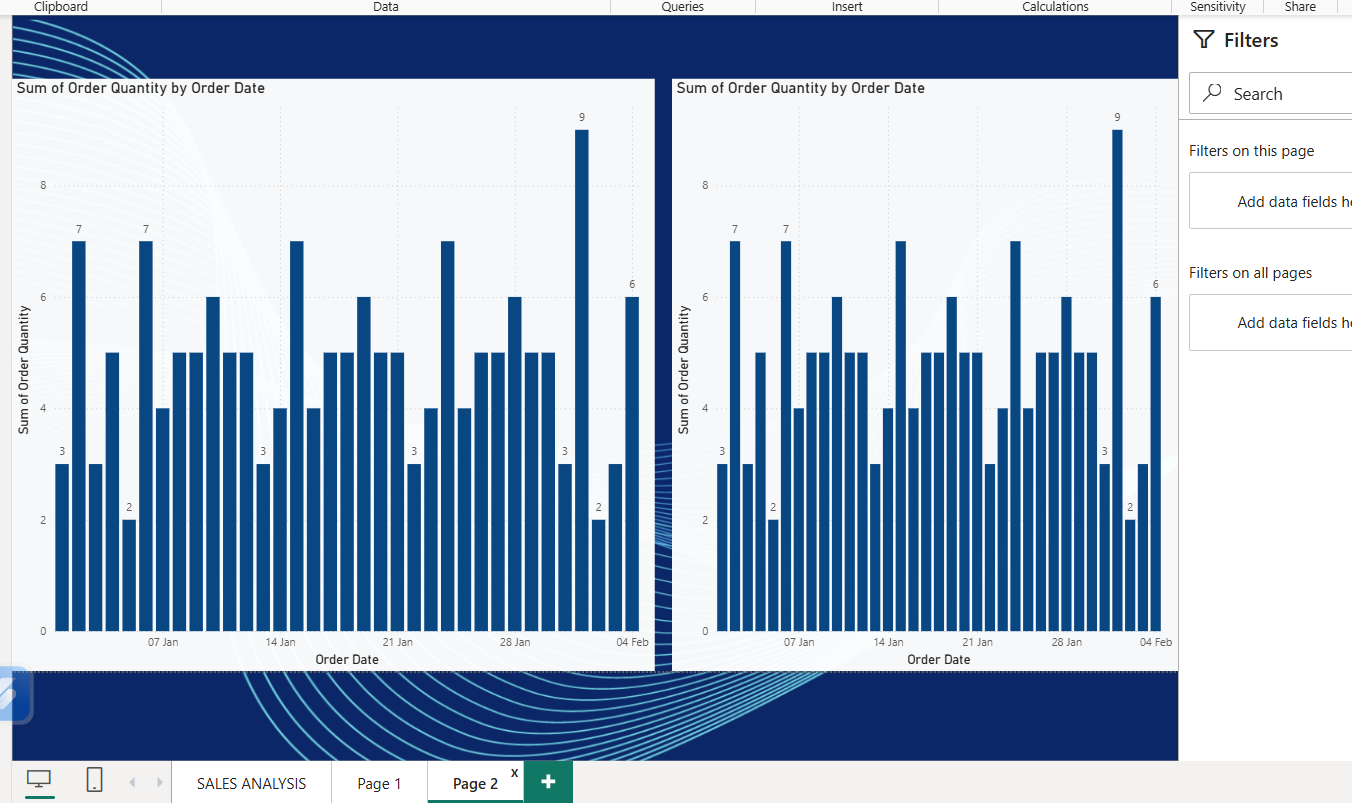

The dashboard page shown, as its layout file describes it:
{"tool":"powerbi","page":{"name":"Page 2","canvas":[1280,720],"ordinal":2},"visuals":[{"type":"columnChart","fields":{"Y":["Sum(Supermarket Sales Data (SuperMarket Sales).Order Quantity)"],"Category":["Supermarket Sales Data (SuperMarket Sales).Order Date.Variation.Date Hierarchy.Month"]},"box":[0,70,705.3,650.4],"z":0},{"type":"columnChart","fields":{"Y":["Sum(Supermarket Sales Data (SuperMarket Sales).Order Quantity)"],"Category":["Supermarket Sales Data (SuperMarket Sales).Order Date.Variation.Date Hierarchy.Year"]},"box":[724.5,70,555.7,650.4],"z":1000}]}

Visuals, with their boxes on the page's 1280x720 design canvas (x1, y1, x2, y2). These are canvas units, not pixel positions in the 1352x803 screenshot, which may show the page scaled, cropped or inside an application window:
columnChart - Sum(Supermarket Sales Data (SuperMarket Sales).Order Quantity) x Supermarket Sales Data (SuperMarket Sales).Order Date.Variation.Date Hierarchy.Month: box=[0, 70, 705, 720]
columnChart - Sum(Supermarket Sales Data (SuperMarket Sales).Order Quantity) x Supermarket Sales Data (SuperMarket Sales).Order Date.Variation.Date Hierarchy.Year: box=[724, 70, 1280, 720]
